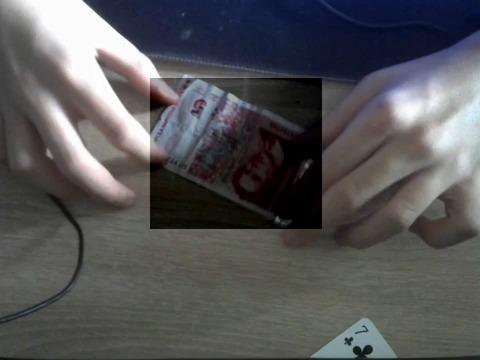5leva: (150, 78, 322, 229)
